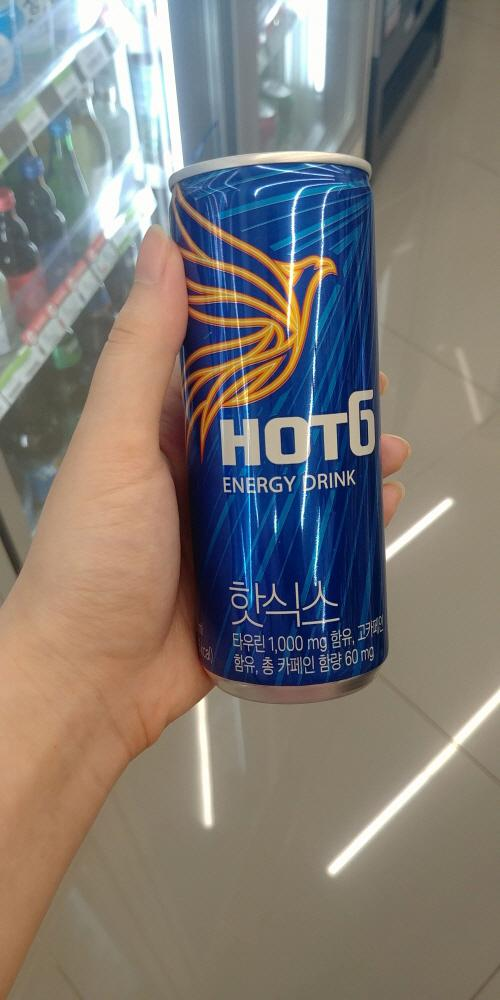hotsix_org: (151, 148, 415, 730)
